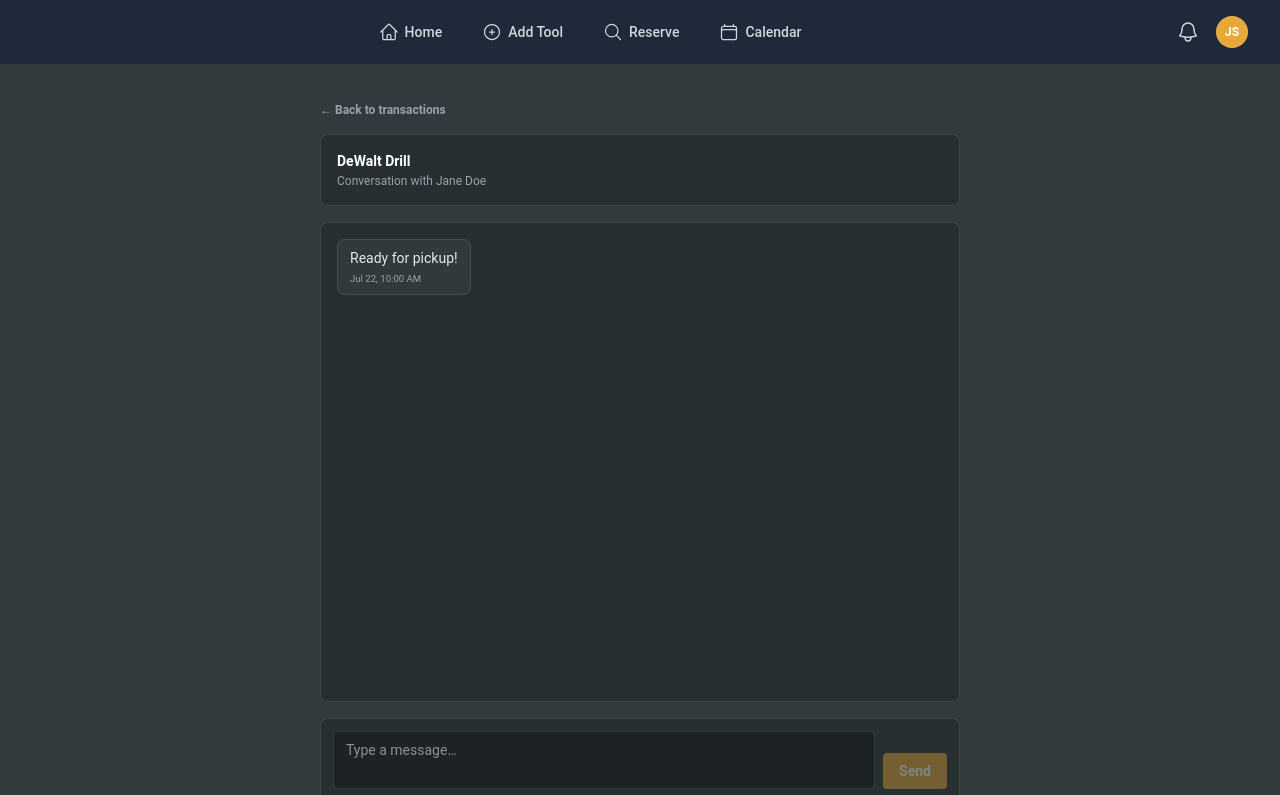
MessageThread › sends a message, appends it, and clears the draft
Type "hello" into the text box with placeholder "Type a message…".
click(604, 760); type("hello")  # box [333,731,875,789]
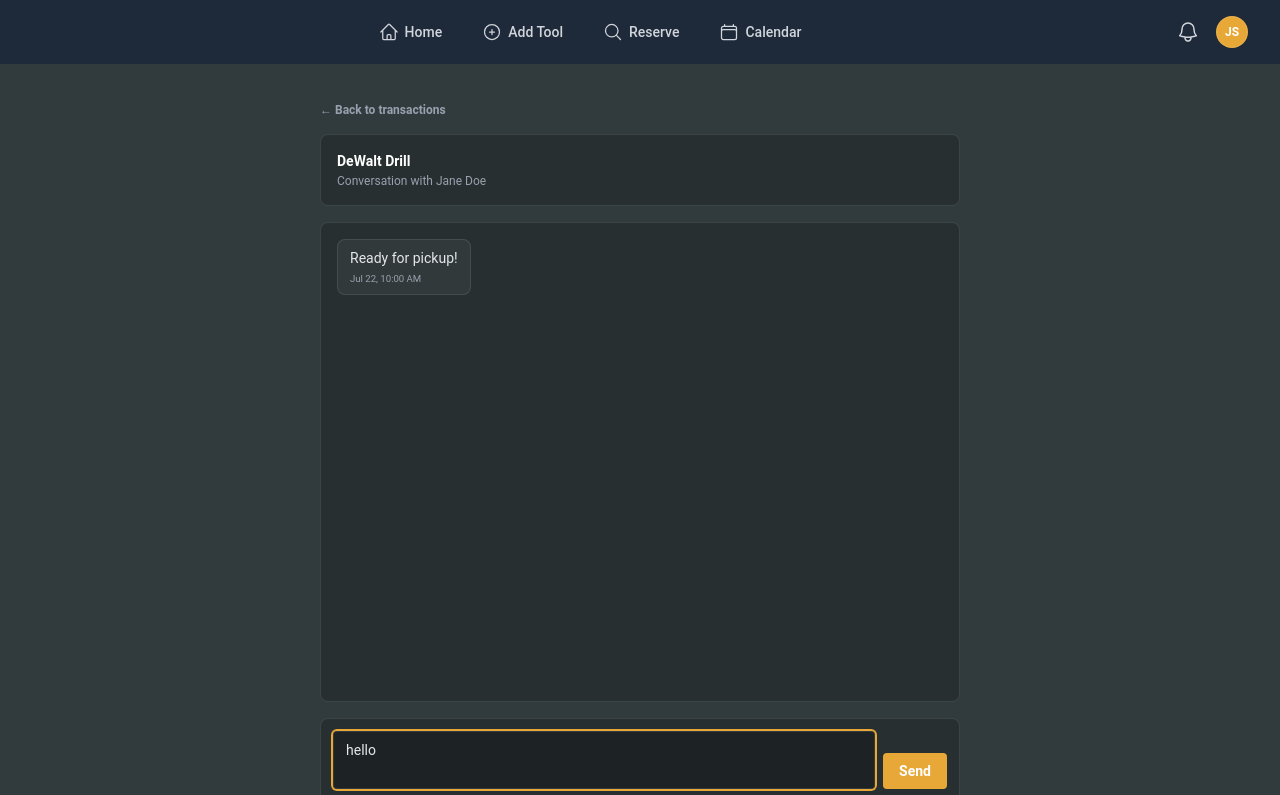
Click the button "Send".
click(915, 771)  # box [883,753,947,789]
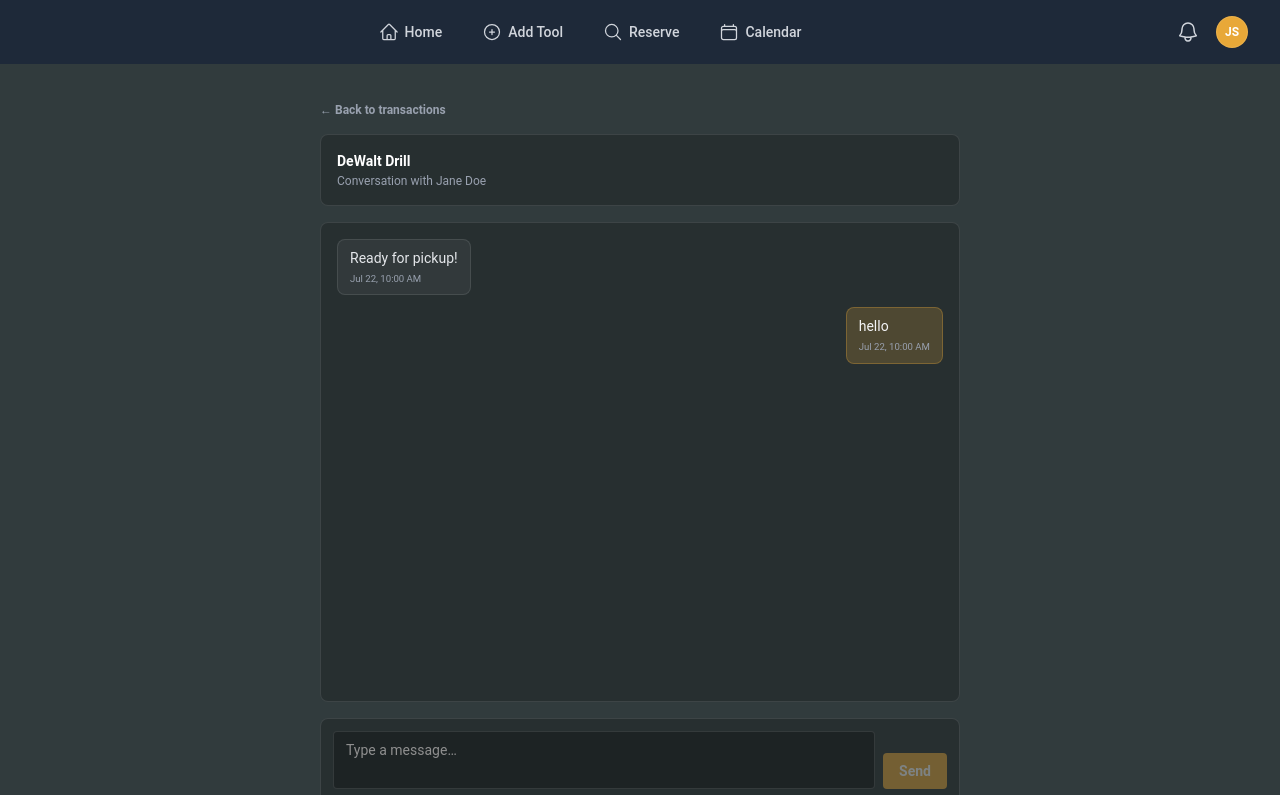
Now the text "hello" is shown, box [859,318,889,334]
Now the text box with placeholder "Type a message…" is empty, box [333,731,875,789]
